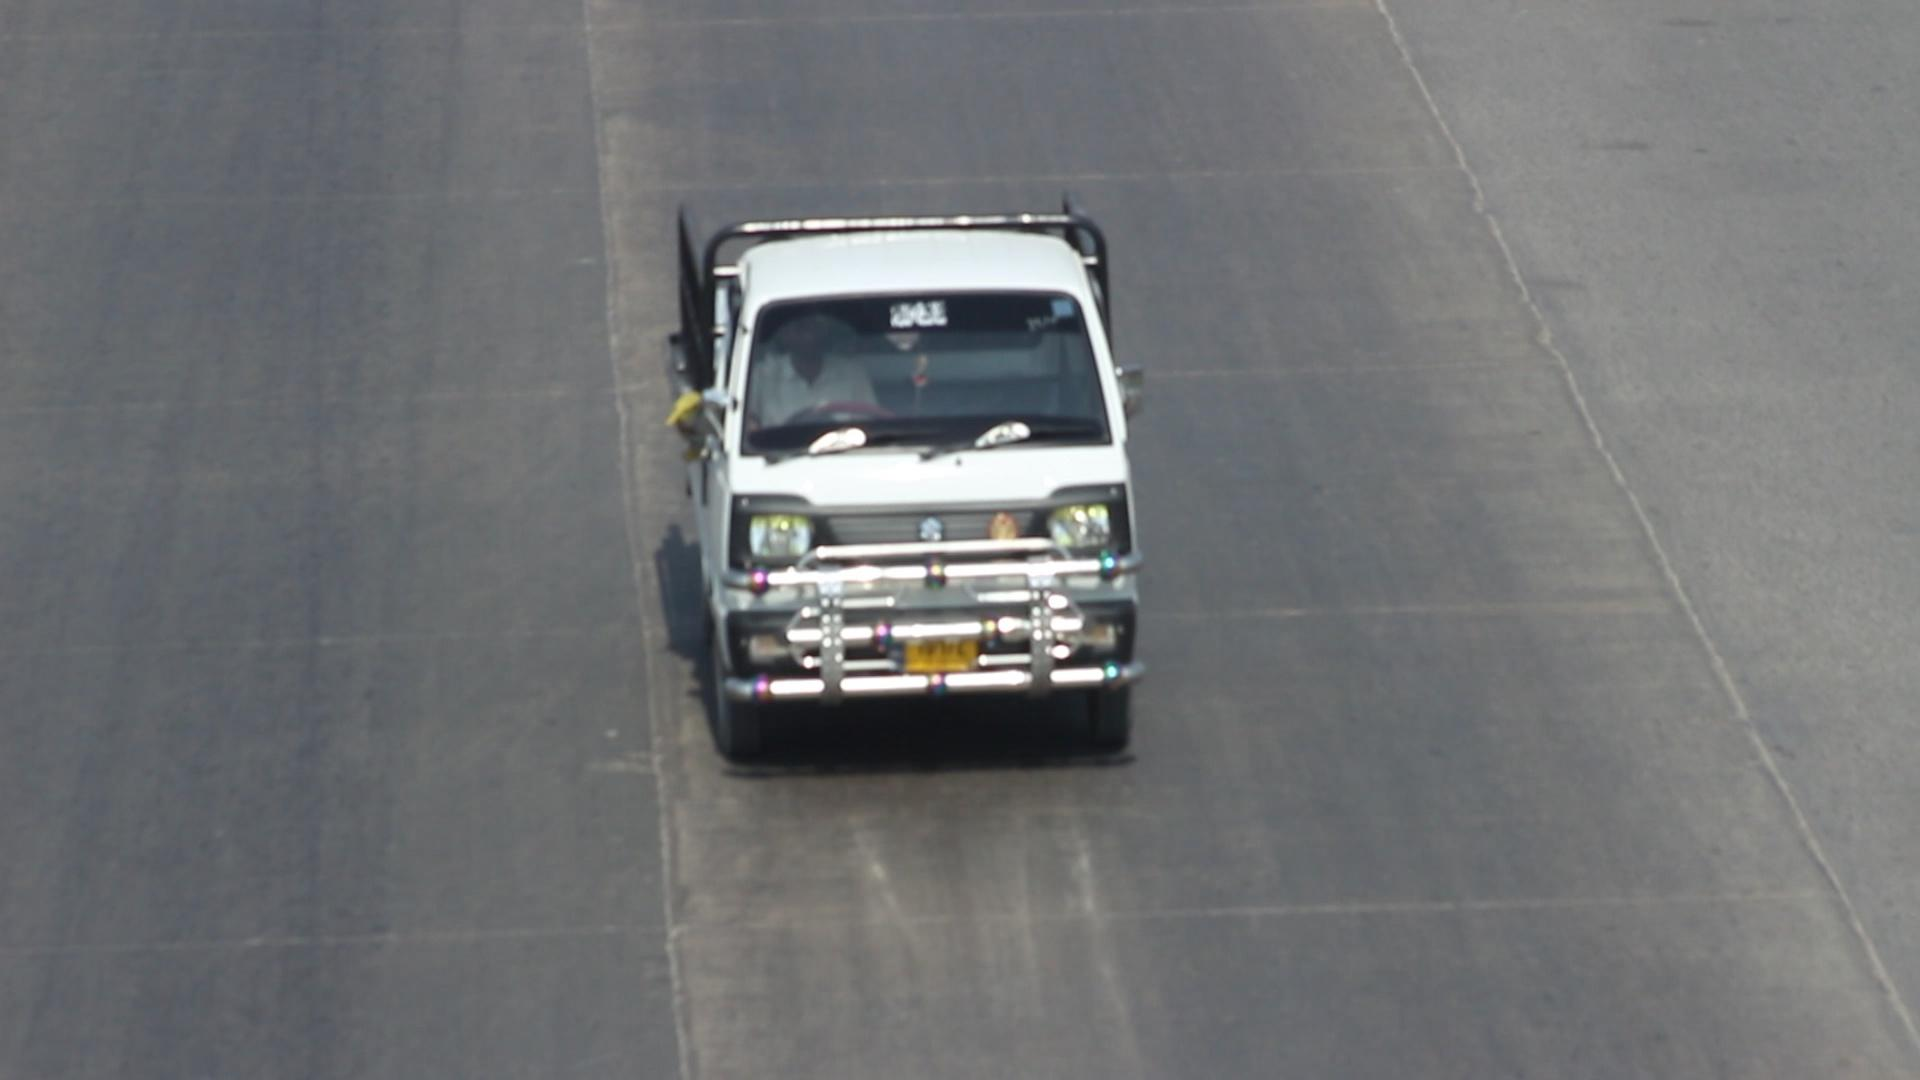windshield: (731, 270, 1124, 480)
